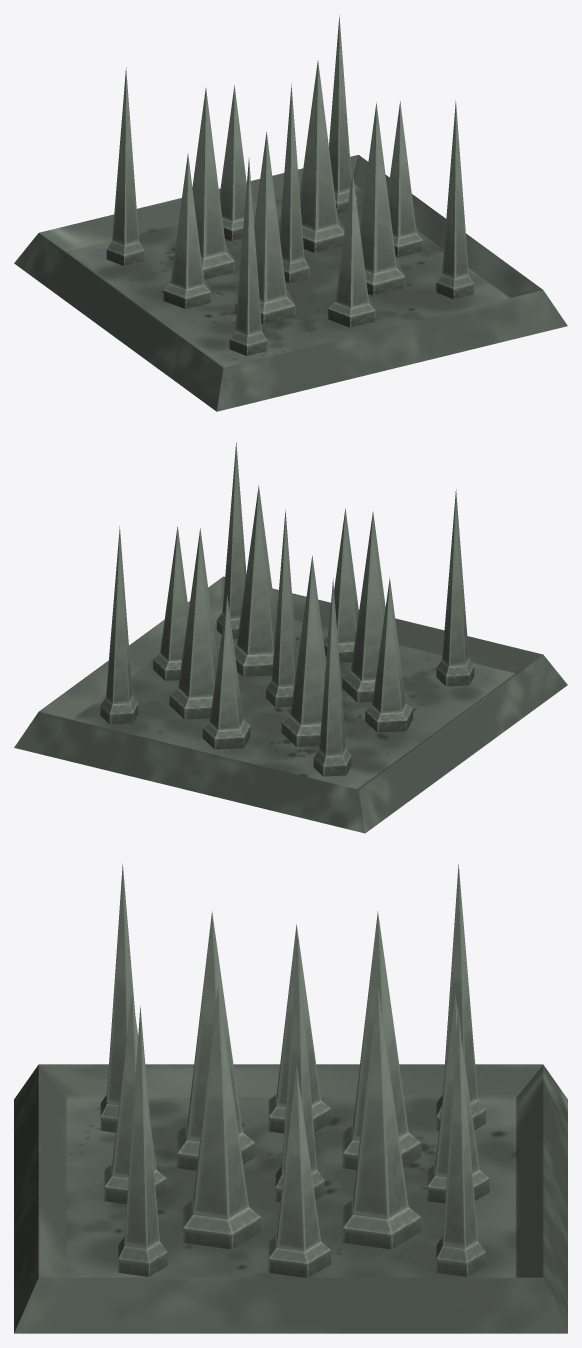
File: Trap.fbx
3 views of the same model, one above another, from view 1: azimuth 30°, elevation 25°; view 2: azimuth 150°, elevation 25°; view 3: azimuth 270°, elevation 25° (orthographic). The views are drawn at different scales.
Parts seen in each view (by area): view 1: Board, Spikes; view 2: Board, Spikes; view 3: Board, Spikes.
Part boxes in pixels (box(x1,y1,x2,y2)): Board: box(14, 155, 567, 411); Spikes: box(106, 15, 474, 355); Board: box(14, 576, 567, 833); Spikes: box(100, 442, 474, 776); Board: box(14, 1064, 567, 1333); Spikes: box(100, 863, 489, 1277).
Bounding box in the file's own units: 206 × 117 × 206.
